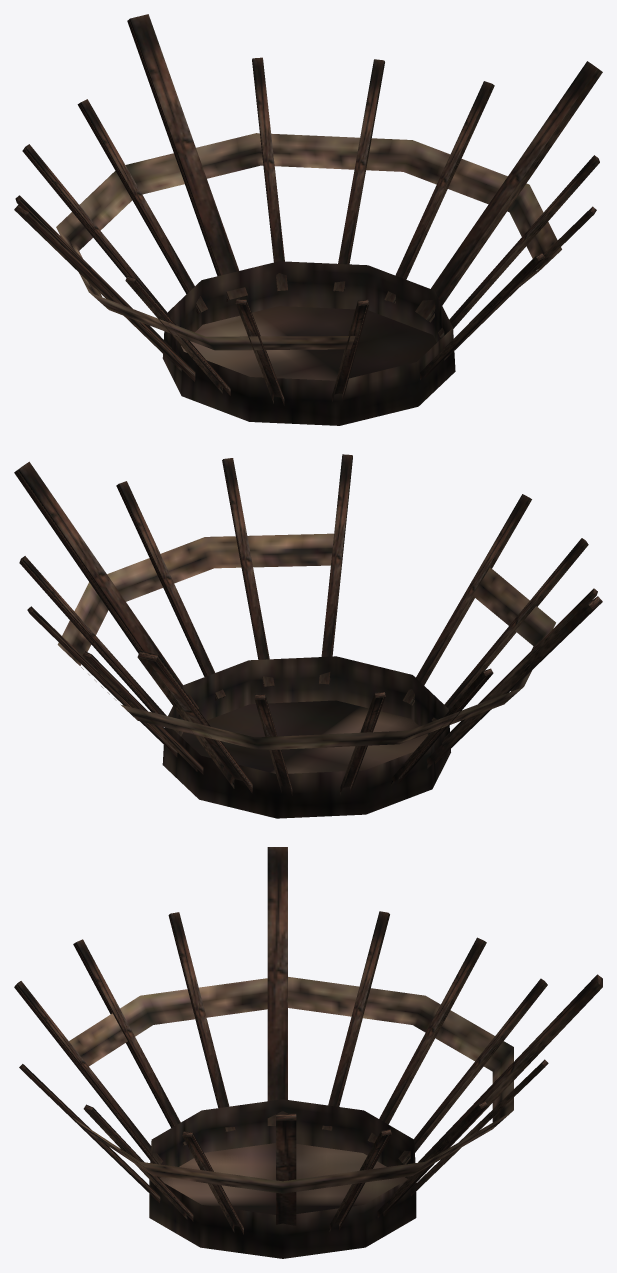
The picture shows the model from 3 angles, top to bottom: view 1: azimuth 30°, elevation 25°; view 2: azimuth 150°, elevation 25°; view 3: azimuth 270°, elevation 25°; orthographic projection. The views are drawn at different scales.
Parts seen in each view (by area): view 1: wj14; view 2: wj14; view 3: wj14.
Boxes of the visible parts, x1,y1,x2,y2 form: wj14: [14, 14, 602, 425]; wj14: [14, 454, 602, 818]; wj14: [14, 847, 602, 1258].
Size of the model in its own units: 720 by 271 by 661.
